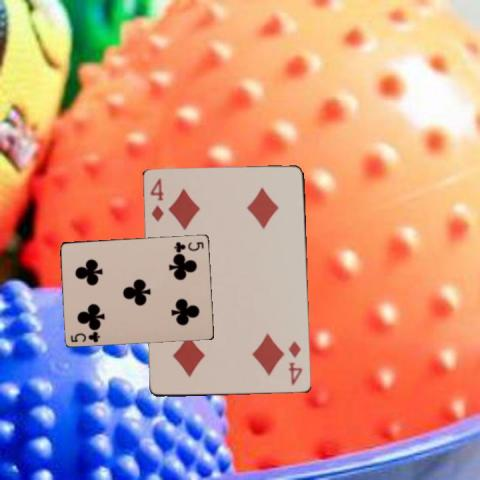4d: (285, 338, 304, 387), (148, 176, 166, 223)
5c: (68, 328, 101, 343), (171, 239, 205, 252)
